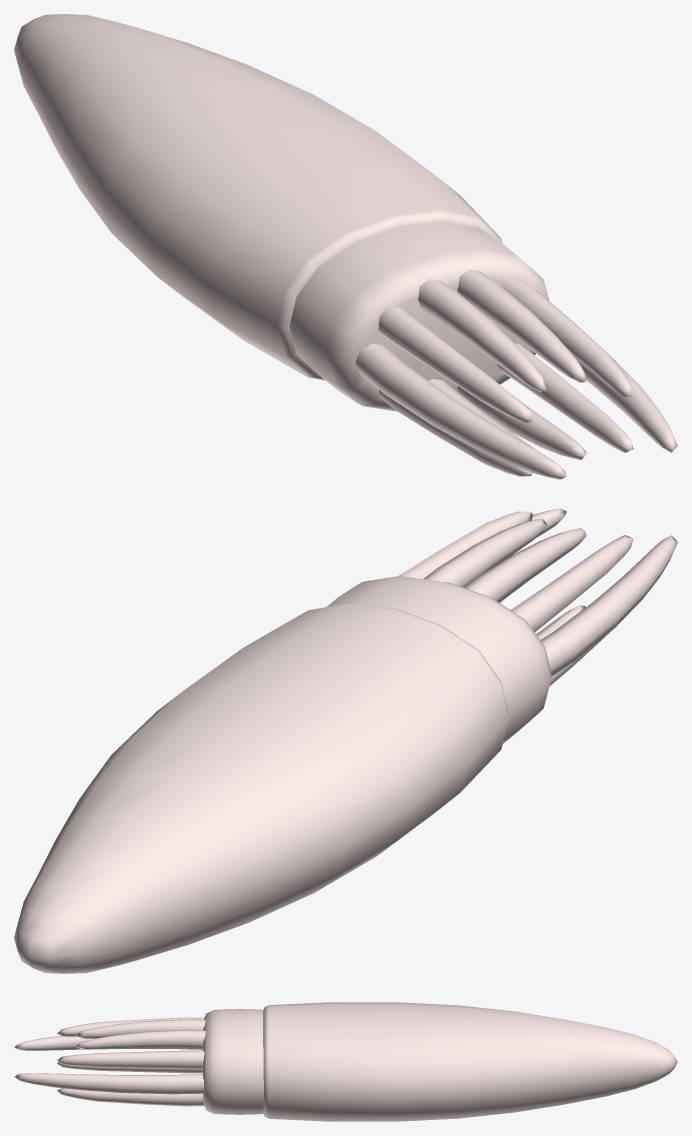
Rendered from Squid_2.fbx.
3 views of the same model, one above another, from view 1: azimuth 30°, elevation 25°; view 2: azimuth 150°, elevation 25°; view 3: azimuth 270°, elevation 25° (orthographic). The views are drawn at different scales.
Parts seen in each view (by area): view 1: Squid_2; view 2: Squid_2; view 3: Squid_2.
Boxes of the visible parts, bbox=[...] form: Squid_2: bbox=[14, 14, 677, 479]; Squid_2: bbox=[14, 508, 677, 973]; Squid_2: bbox=[14, 1002, 677, 1121].
Size of the model in its own units: 11.59 by 6.85 by 44.97.
